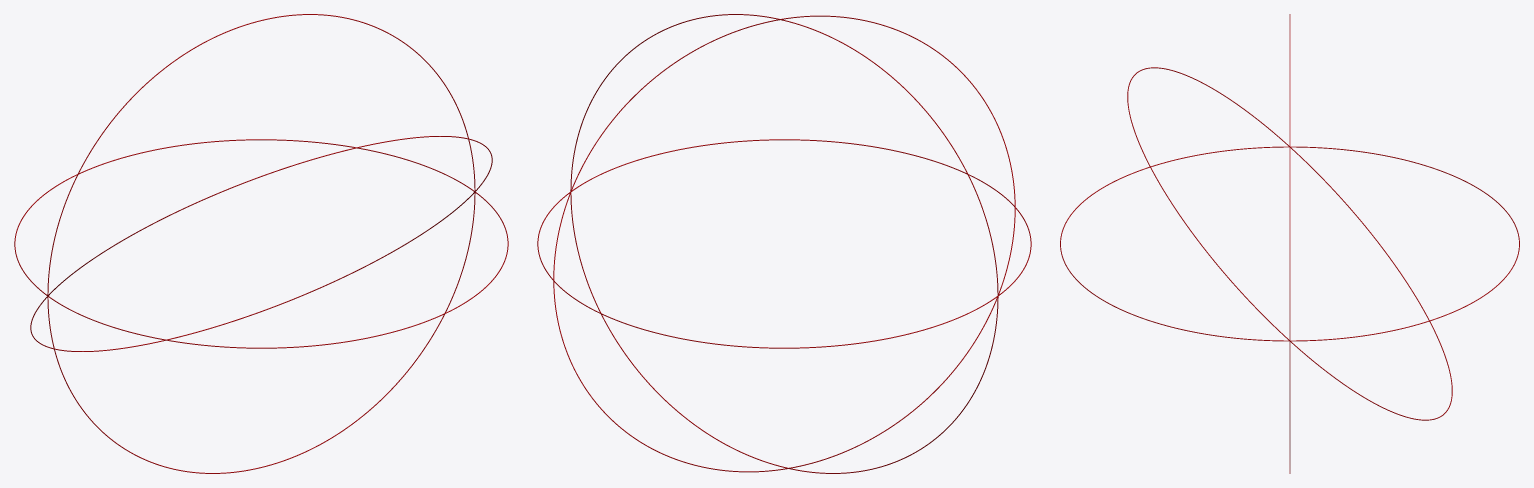
Rendered from maple_facts_rings.glb.
3 renders of one model, left to right at view 1: azimuth 30°, elevation 25°; view 2: azimuth 150°, elevation 25°; view 3: azimuth 270°, elevation 25°, orthographic. The views are drawn at different scales.
Parts seen in each view (by area): view 1: Ring2, Ring1, Ring3; view 2: Ring3, Ring2, Ring1; view 3: Ring1, Ring3, Ring2.
Part boxes in pixels (<box>): Ring2: <box>47,14,475,473</box>; Ring1: <box>14,139,508,348</box>; Ring3: <box>30,136,492,351</box>; Ring3: <box>553,15,1015,472</box>; Ring2: <box>570,14,998,473</box>; Ring1: <box>537,139,1031,348</box>; Ring1: <box>1060,146,1519,341</box>; Ring3: <box>1127,67,1452,420</box>; Ring2: <box>1289,14,1290,473</box>.
Bounding box in the file's own units: 0.4915 × 0.4915 × 0.4915.
